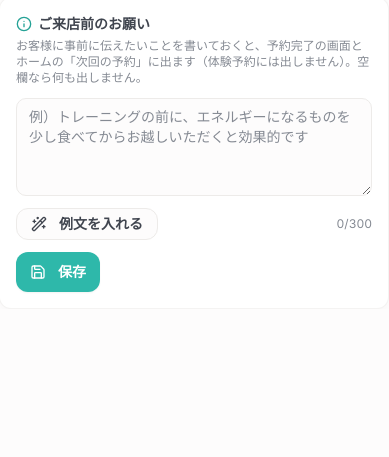
Test case: 設定（予約のルール → ご来店前のお願い） › 例文ボタンで例文が入る（保存するまでお客様には出ない）
What coordinates should you click on to do the following:
click the button "例文を入れる"
I would click on:
 (87, 224)
Its box is [16,208,158,240].
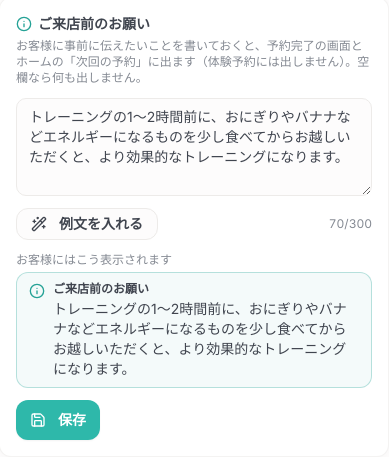
Check: the text box labelled "ご来店前のお願い" holds "トレーニングの1〜2時間前に、おにぎりやバナナなどエネルギーになるものを少し食べてからお越しいただくと、より効果的なトレーニングになります。", box [16,98,372,196]
